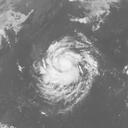cyclone: (32, 35, 98, 106)
